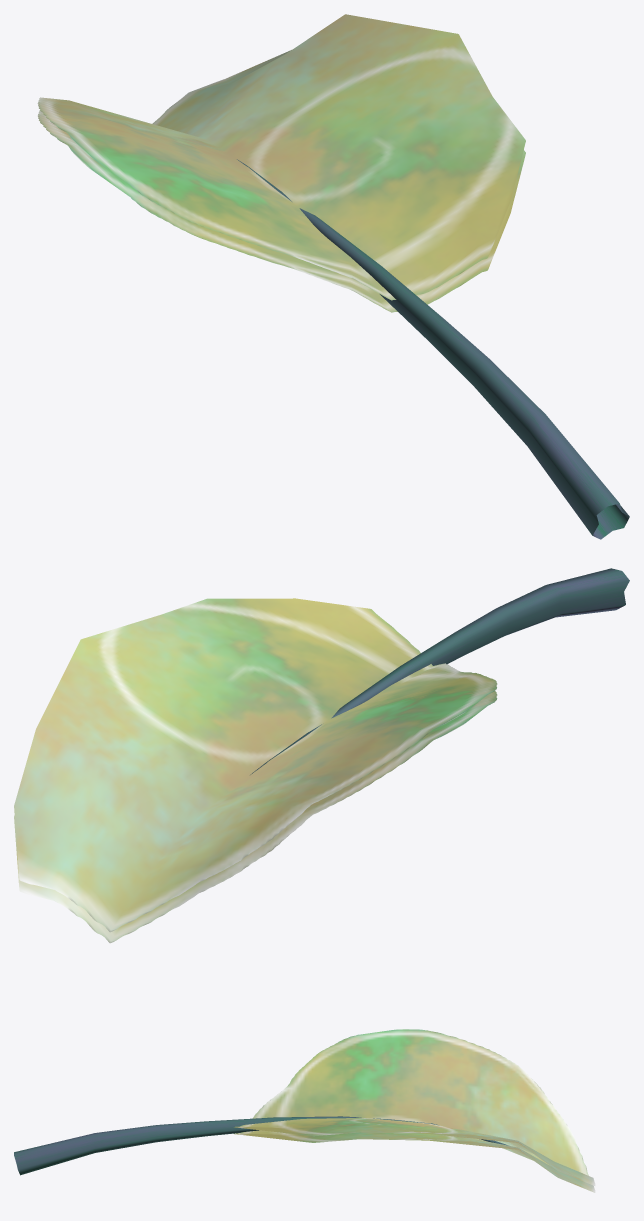
File: normalLeaf2.fbx
The picture shows the model from 3 angles, top to bottom: view 1: azimuth 30°, elevation 25°; view 2: azimuth 150°, elevation 25°; view 3: azimuth 270°, elevation 25°; orthographic projection. The views are drawn at different scales.
Parts seen in each view (by area): view 1: tropleaf5; view 2: tropleaf5; view 3: tropleaf5.
Part boxes in pixels (left/top/right/bottom): tropleaf5: left=37, top=14, right=629, bottom=539; tropleaf5: left=14, top=568, right=629, bottom=943; tropleaf5: left=14, top=1029, right=595, bottom=1192.
Bounding box in the file's own units: 1.18 × 0.6111 × 2.82.
